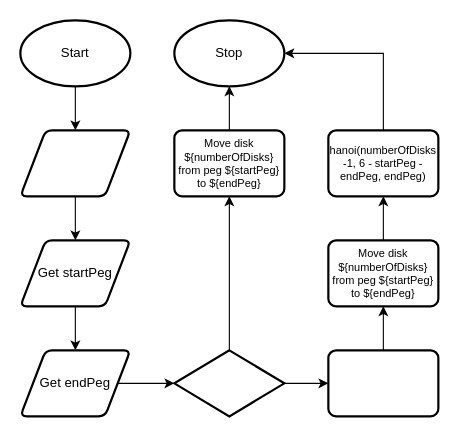
Some shapes in this 458 by 436 pixel diagram are drawn without their labels. The shapes that lost their labels are listed below. From the top down, each one's centre as x and y in pixels, then its label:
the point at 75,163: Get numberOfDisks
the point at 229,383: if (numberOfDisks == 1)
the point at 383,383: hanoi(numberOfDisks - 1, startPeg, 6 - startPeg - endPeg)
